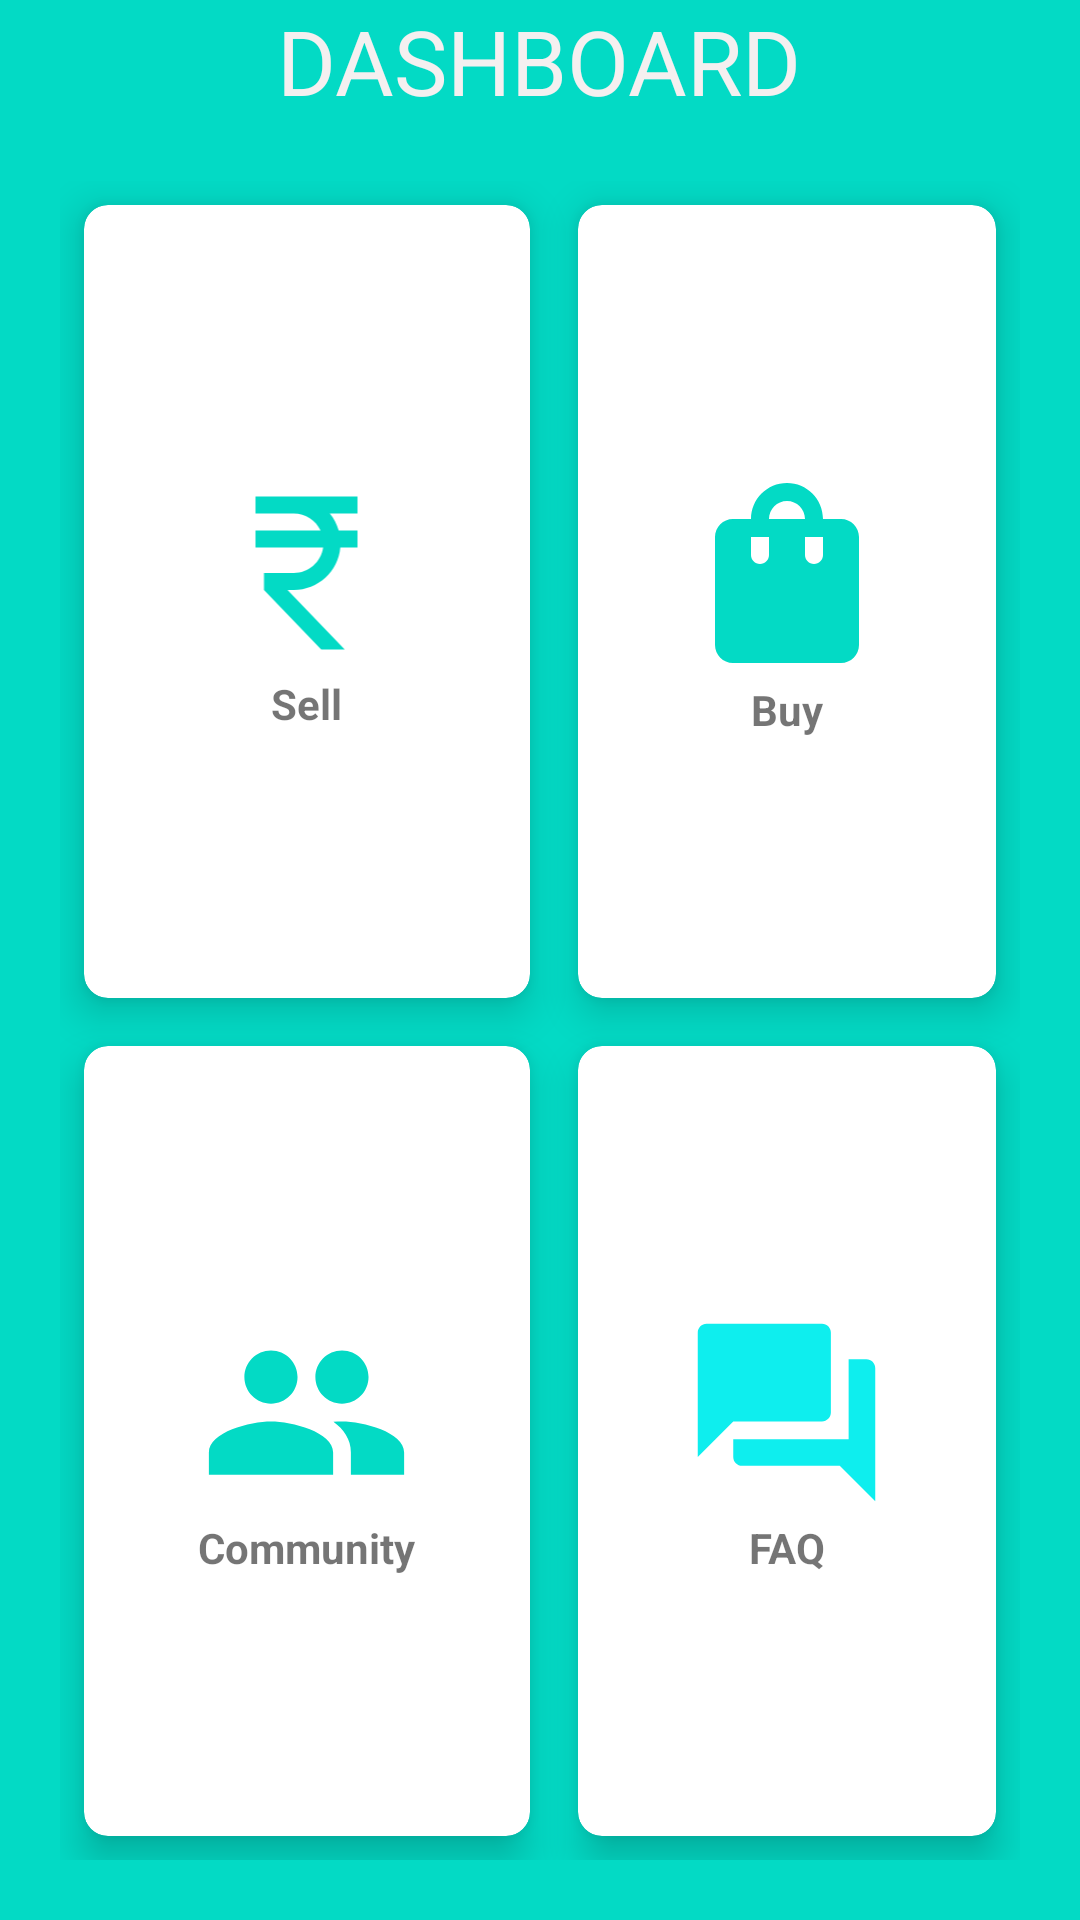

Named icons in this screenshot (1080w x 1920h) and their centers, point (x, y):
currency rupee: point (306, 573)
people: point (306, 1412)
question answer: point (786, 1412)
shopping bag: point (787, 573)
